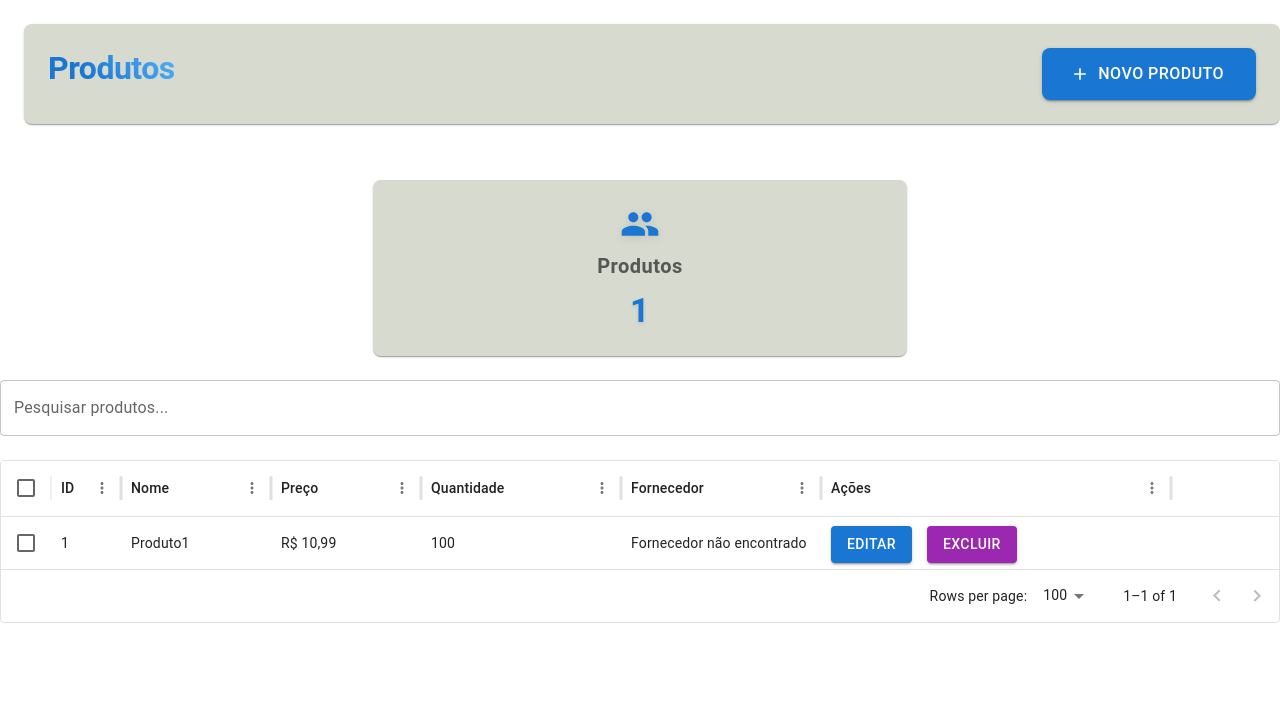
Test: Componente Produto › Exclui produto com confirmação
The image size is (1280, 720).
Expected: the table is shown, [1,461,1279,569]
Click the button "Excluir": (972, 544) [927,526,1017,562]
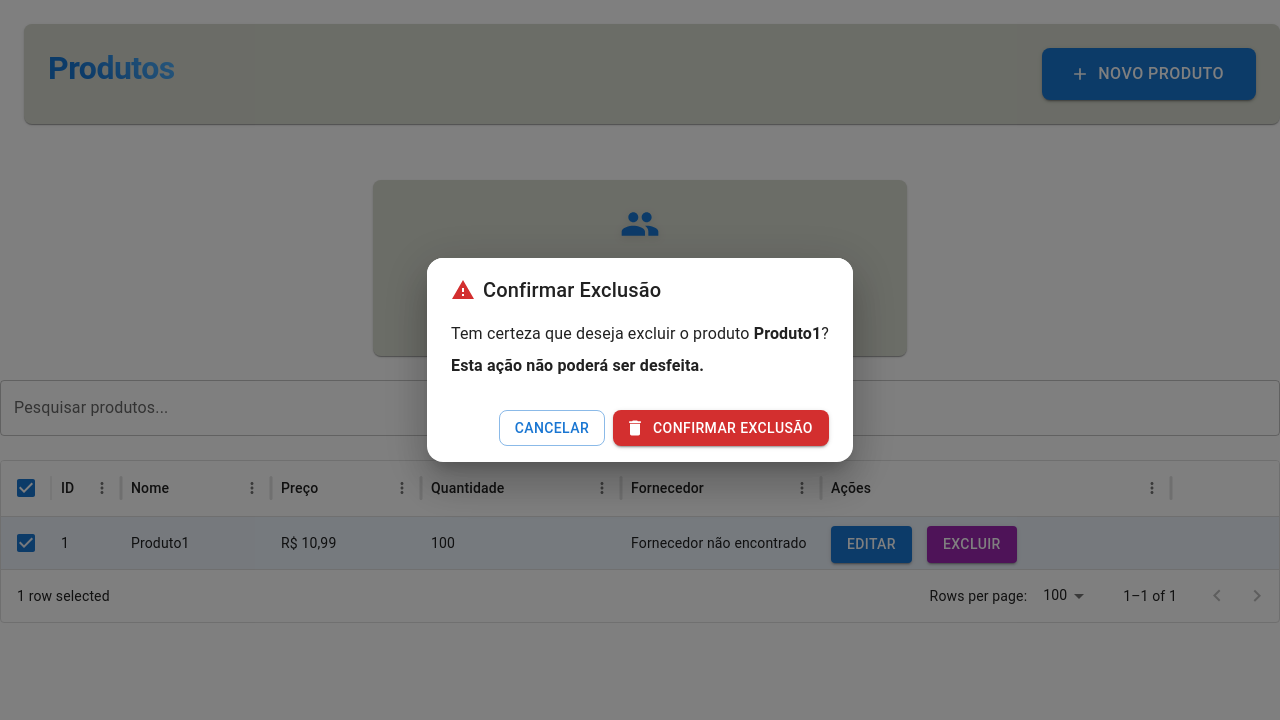
Expected: the dialog shows "Confirmar Exclusão", [483,278,661,302]
Expected: the dialog shows "Produto1", [754,324,821,343]
